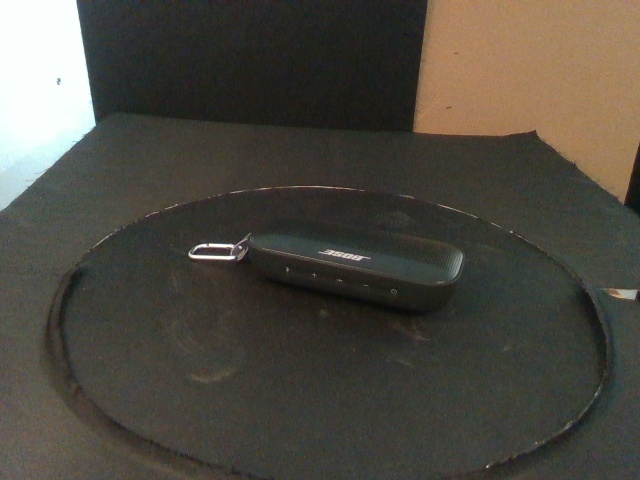speaker: (244, 216, 467, 316)
